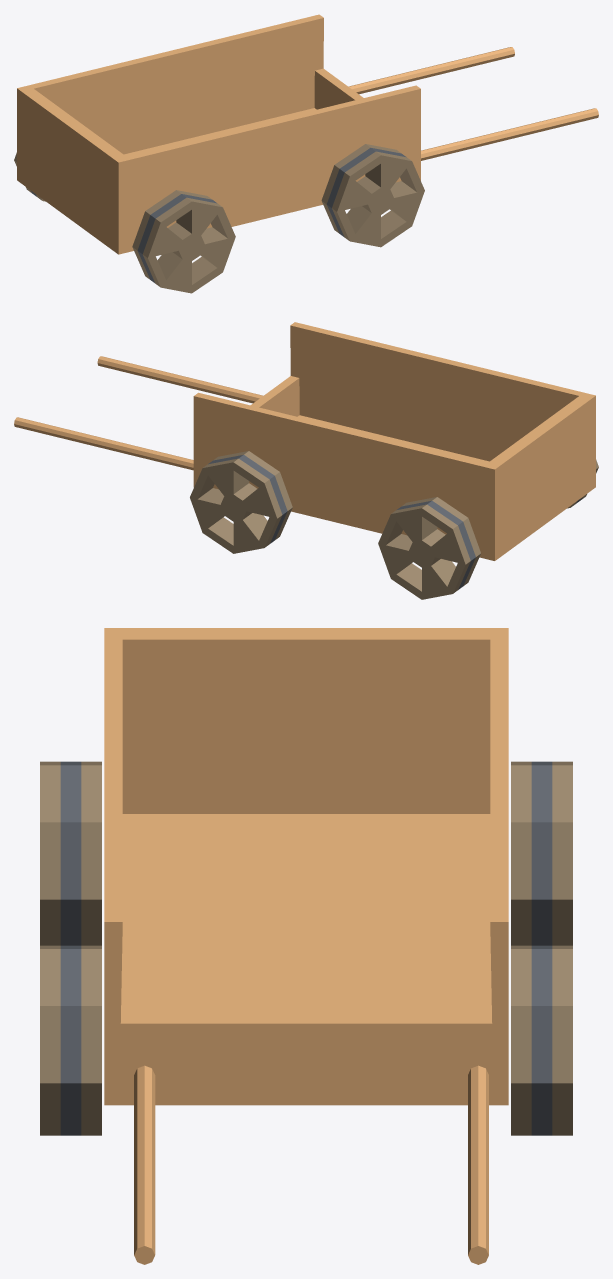
The model's file is Cart.fbx.
3 renders of one model, top to bottom at view 1: azimuth 30°, elevation 25°; view 2: azimuth 150°, elevation 25°; view 3: azimuth 270°, elevation 25°, orthographic. The views are drawn at different scales.
Visible parts, largest first — view 1: Cart; view 2: Cart; view 3: Cart.
Part boxes in pixels (bbox=[...]): Cart: bbox=[14, 14, 598, 293]; Cart: bbox=[14, 322, 598, 599]; Cart: bbox=[40, 628, 572, 1264].
Bounding box in the file's own units: 1109 × 289 × 527.
